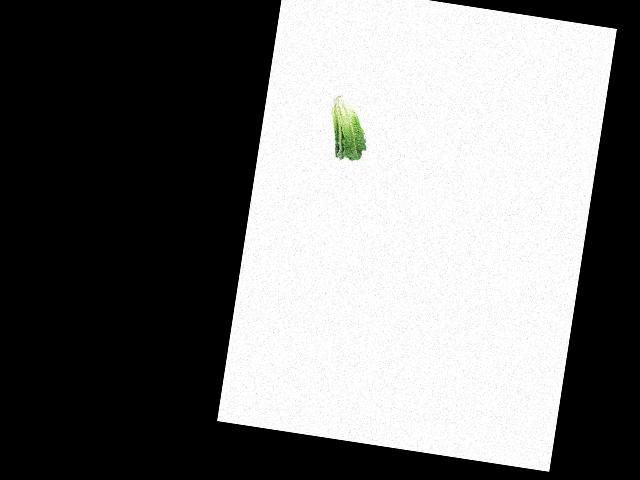lettuce: (322, 90, 373, 164)
